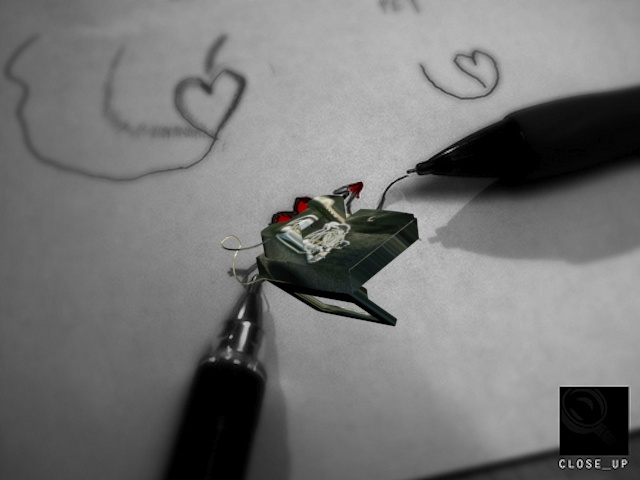phone: (209, 193, 432, 336)
